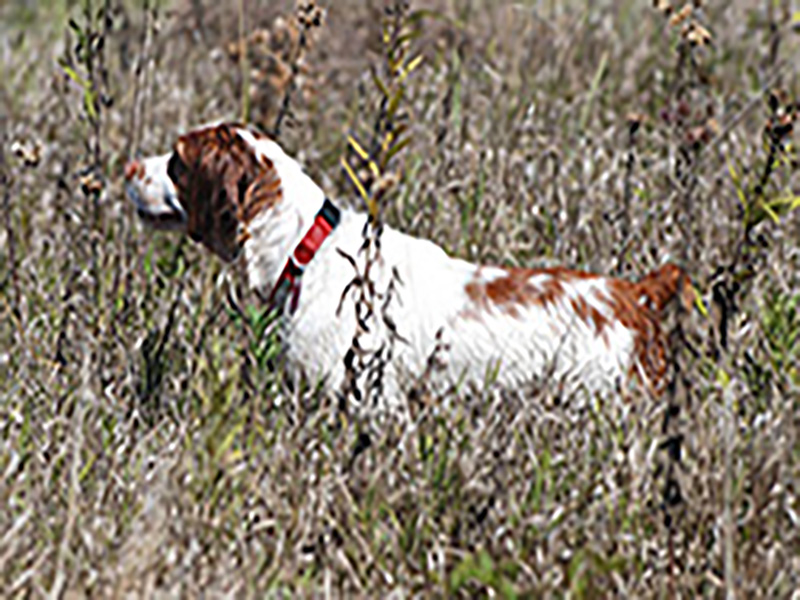cane da caccia: (124, 118, 695, 430)
